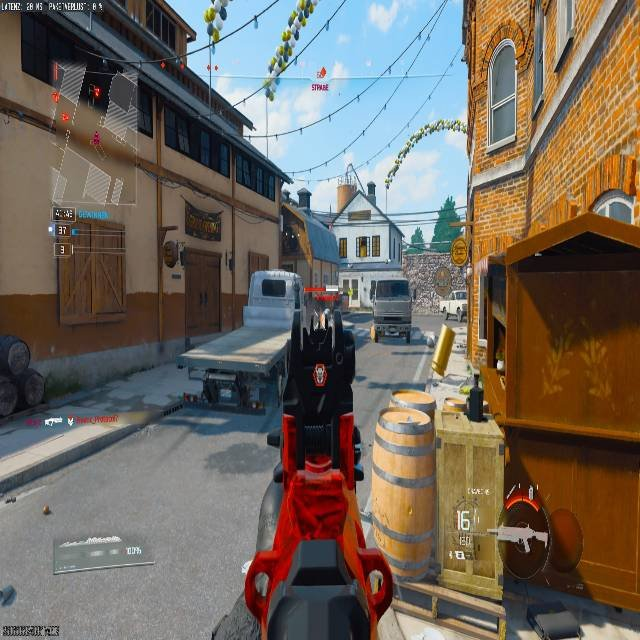player: (457, 304, 465, 323)
